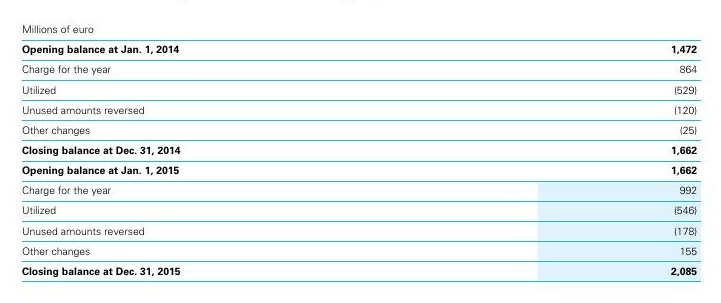table: (0, 0, 721, 303)
